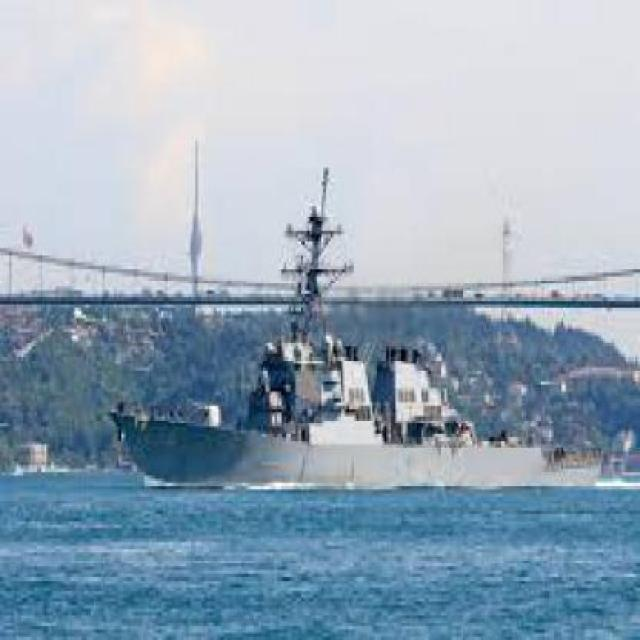warship2: (99, 173, 606, 516)
